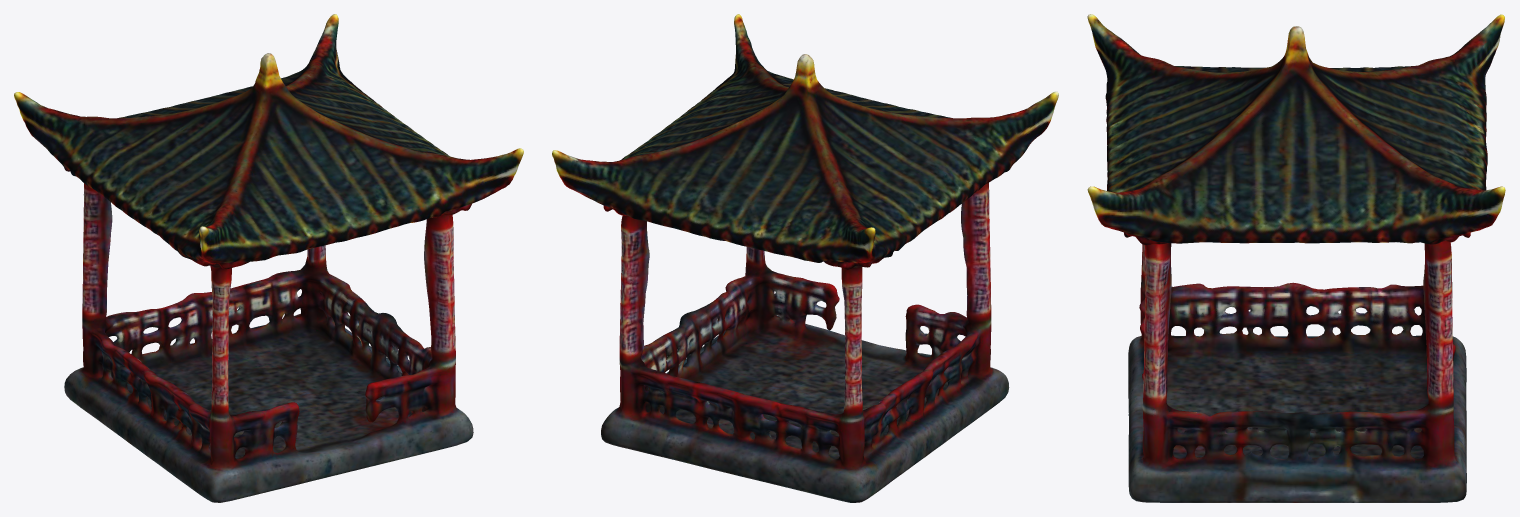
Rendered from changting_glb.glb.
3 views of the same model, side by side, from view 1: azimuth 30°, elevation 25°; view 2: azimuth 150°, elevation 25°; view 3: azimuth 270°, elevation 25° (orthographic). The views are drawn at different scales.
Parts seen in each view (by area): view 1: geometry_0; view 2: geometry_0; view 3: geometry_0.
Part boxes in pixels (x1,y1,x2,y2): geometry_0: (14,14,523,502); geometry_0: (552,14,1058,502); geometry_0: (1087,14,1505,502).
Bounding box in the file's own units: 0.3929 × 0.424 × 0.3952.
Materials: 1 (1 with a texture image).
